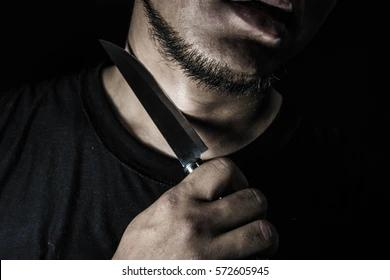Knife: (0, 0, 335, 258), (132, 158, 280, 259), (99, 39, 208, 170)
